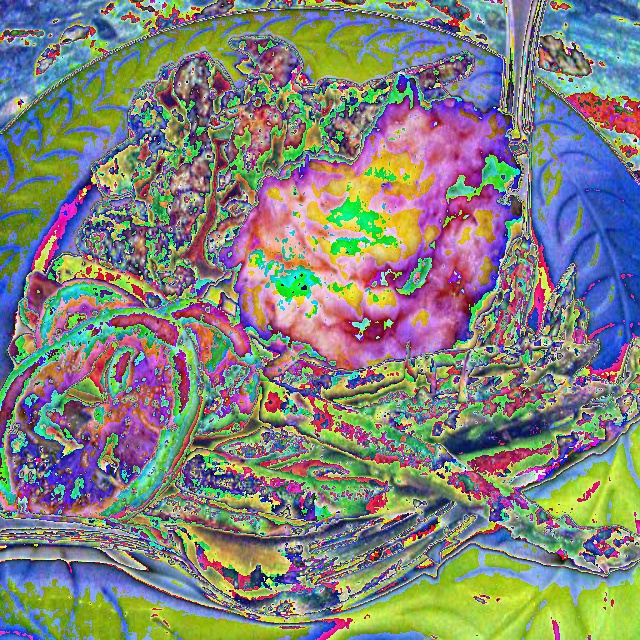background: (0, 34, 640, 574)
